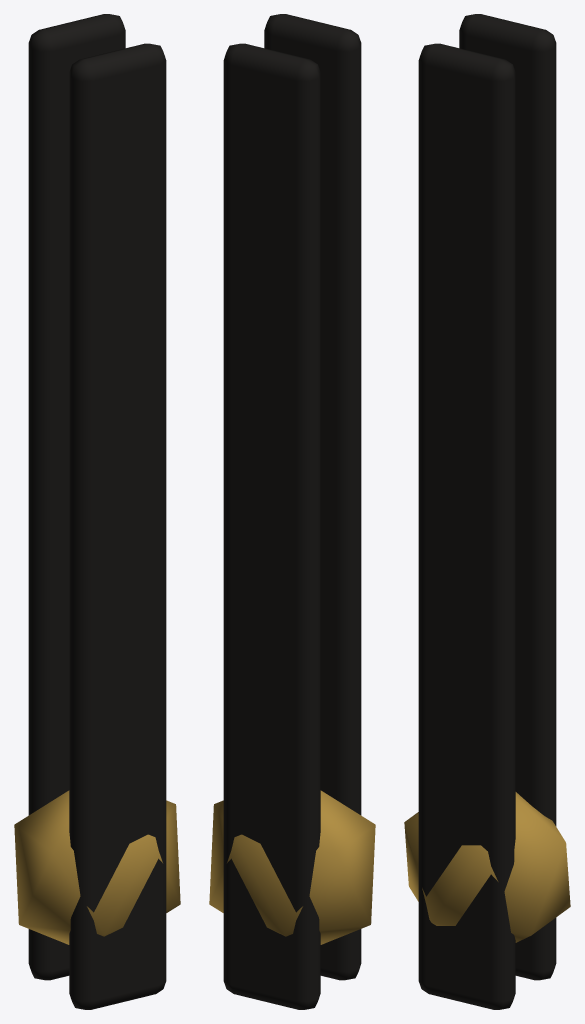
The model's file is park_clock_minute.glb.
3 renders of one model, left to right at view 1: azimuth 30°, elevation 25°; view 2: azimuth 150°, elevation 25°; view 3: azimuth 330°, elevation 25°, orthographic.
Parts seen in each view (by area): view 1: park_clock_minute_main; view 2: park_clock_minute_main; view 3: park_clock_minute_main.
Boxes of the visible parts, x1,y1,x2,y2 form: park_clock_minute_main: (14,14,180,1009); park_clock_minute_main: (209,14,375,1009); park_clock_minute_main: (404,14,570,1009).
Size of the model in its own units: 0.0537 by 0.31 by 0.0374.
